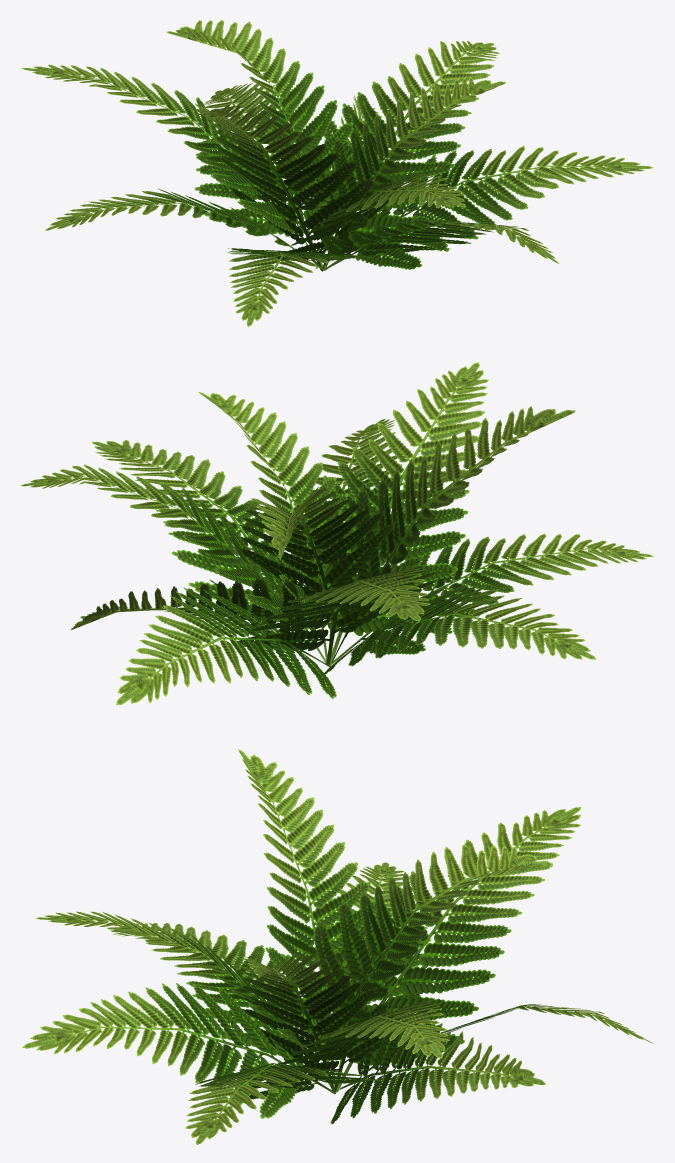
The model's file is SM_Fern_a.fbx.
3 views of the same model, one above another, from view 1: azimuth 30°, elevation 25°; view 2: azimuth 150°, elevation 25°; view 3: azimuth 270°, elevation 25° (orthographic). The views are drawn at different scales.
Parts seen in each view (by area): view 1: SM_Fern_a; view 2: SM_Fern_a; view 3: SM_Fern_a.
Part boxes in pixels (box(x1,y1,x2,y2)): SM_Fern_a: box(21, 20, 653, 326); SM_Fern_a: box(20, 362, 653, 705); SM_Fern_a: box(22, 749, 653, 1144).
Size of the model in its own units: 135 by 129 by 57.32.
1 material, 1 textured.
